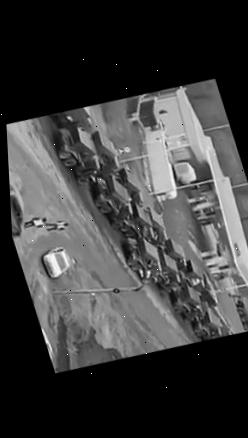car: (9, 172, 38, 240), (31, 241, 77, 282), (39, 319, 65, 373)
person: (23, 212, 49, 232), (44, 216, 70, 234), (152, 106, 168, 117)
rszo: (43, 115, 108, 190), (79, 169, 141, 235), (114, 229, 166, 291), (141, 252, 192, 305), (160, 281, 211, 333), (114, 199, 162, 250), (87, 120, 128, 174), (158, 231, 195, 276), (113, 163, 148, 210), (138, 198, 172, 246), (188, 308, 227, 343)
truck: (35, 102, 101, 137), (169, 156, 199, 190), (230, 290, 248, 333), (202, 323, 236, 341)
